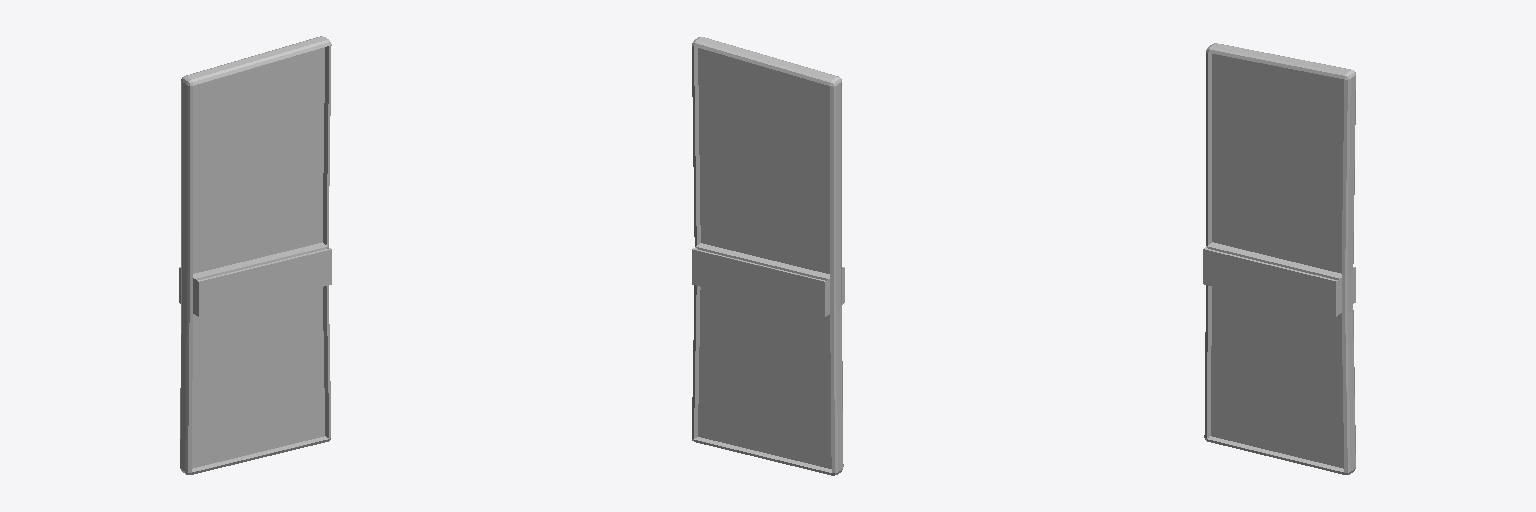
File: door.obj
3 views of the same model, side by side, from view 1: azimuth 30°, elevation 25°; view 2: azimuth 150°, elevation 25°; view 3: azimuth 330°, elevation 25° (orthographic).
Parts seen in each view (by area): view 1: door_geo frontWall_grp walls_geo building_grp; view 2: door_geo frontWall_grp walls_geo building_grp; view 3: door_geo frontWall_grp walls_geo building_grp.
Part boxes in pixels (x1,y1,x2,y2): door_geo frontWall_grp walls_geo building_grp: (179, 36, 331, 474); door_geo frontWall_grp walls_geo building_grp: (692, 37, 844, 475); door_geo frontWall_grp walls_geo building_grp: (1203, 43, 1355, 474).
Bounding box in the file's own units: 49.82 × 131 × 11.64.